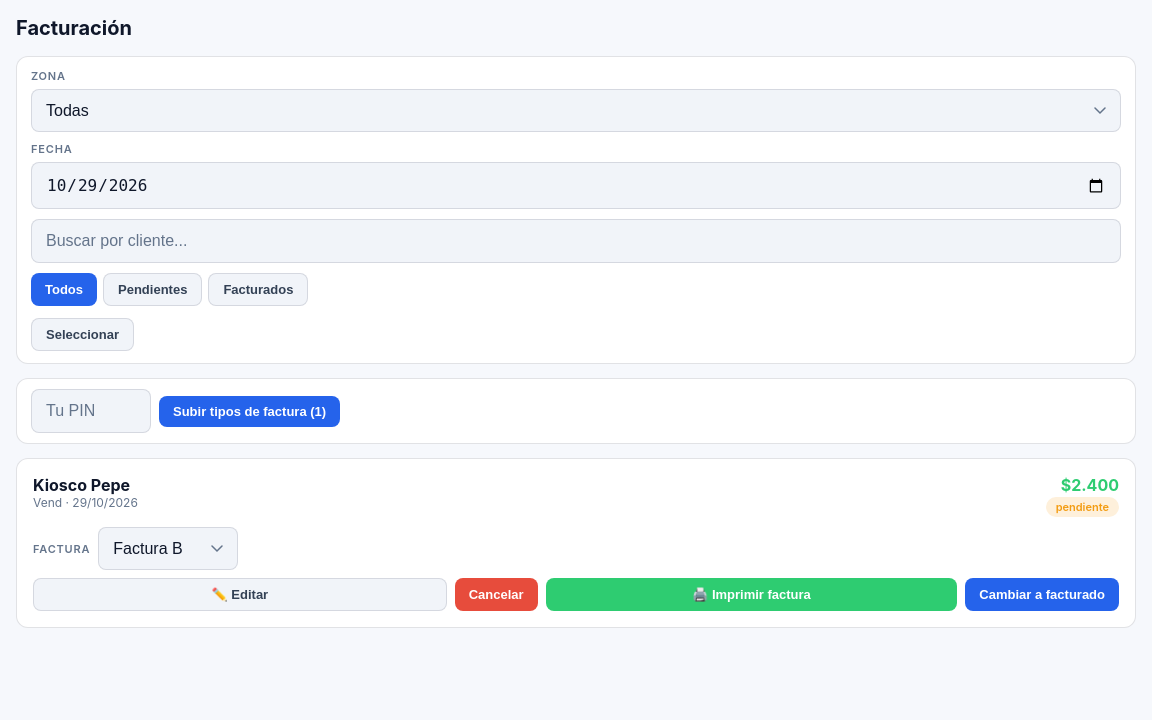
it: AC-FAB-3 subir tipos de factura con PIN › AC-FAB-3 sin PIN valido no sube y avisa
The width and height of the screenshot is (1152, 720).
Click the button "Subir tipos de factura (1)" at x=250, y=411, box [159,396,340,426]
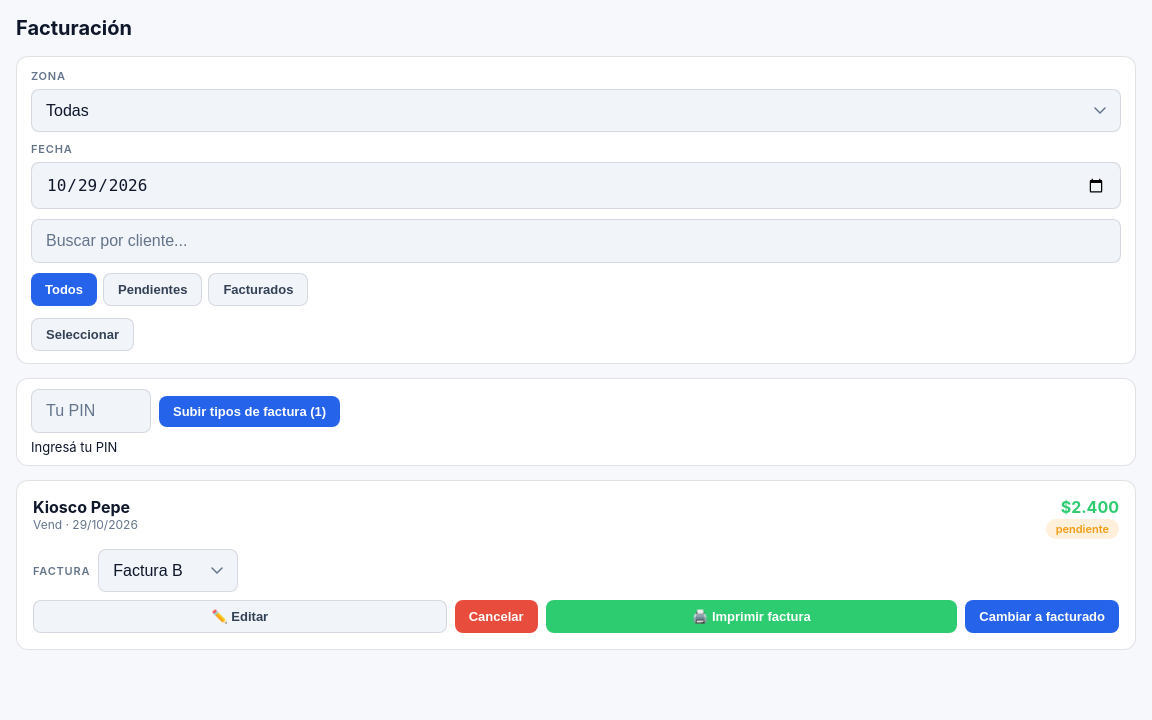
Now the text "Ingresá tu PIN" is shown, box [31,439,117,455]
